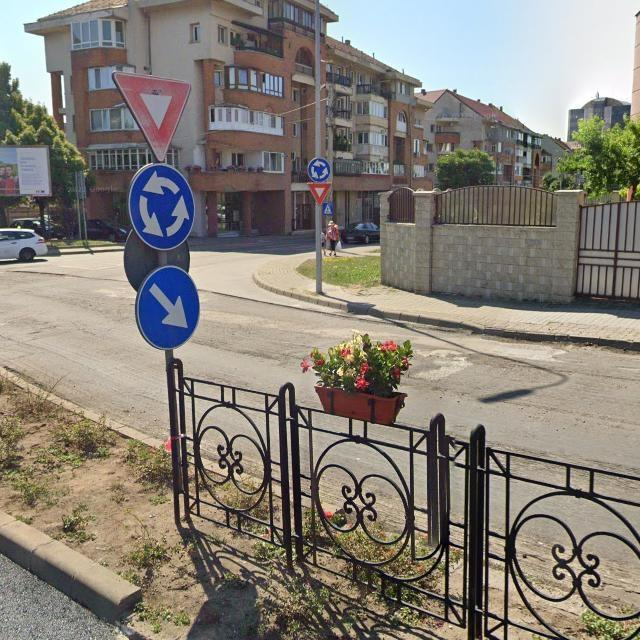info_crosswalk: (322, 202, 335, 217)
prio_give_way: (113, 70, 192, 162), (308, 183, 333, 206)
